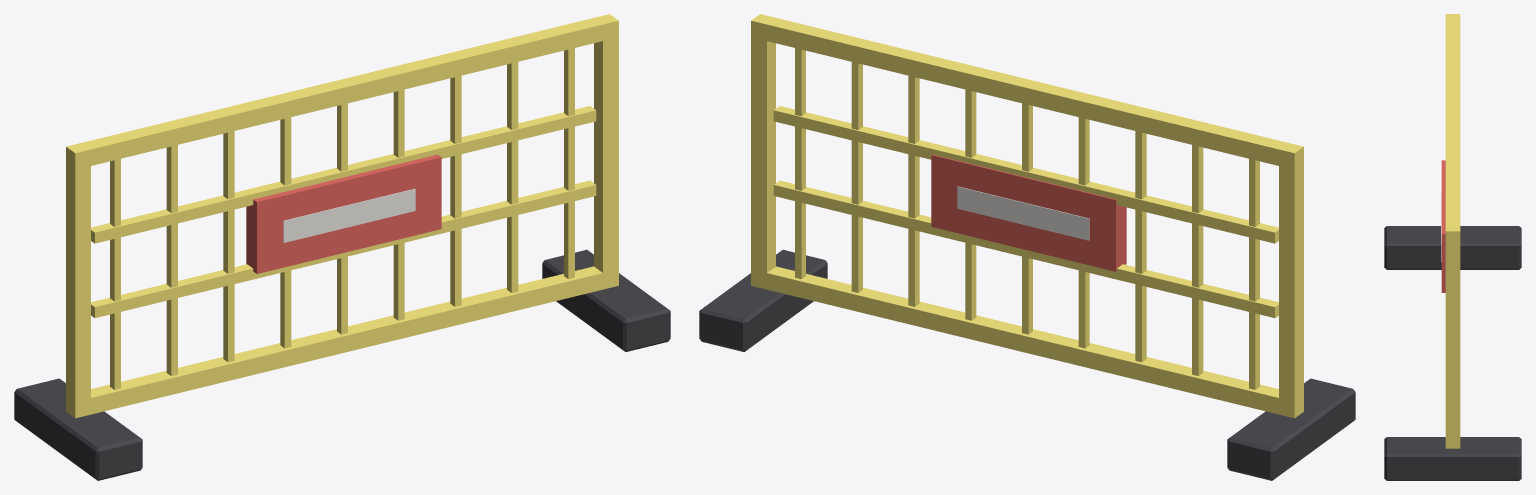
The model's file is prop_work_fence_01.glb.
The picture shows the model from 3 angles, left to right: view 1: azimuth 30°, elevation 25°; view 2: azimuth 150°, elevation 25°; view 3: azimuth 270°, elevation 25°; orthographic projection. The views are drawn at different scales.
Visible parts, largest first — view 1: prop_work_fence_01_body; view 2: prop_work_fence_01_body; view 3: prop_work_fence_01_body.
Boxes of the visible parts, box(x1,y1,x2,y2) form: prop_work_fence_01_body: box(14, 14, 670, 480); prop_work_fence_01_body: box(699, 14, 1355, 480); prop_work_fence_01_body: box(1384, 14, 1521, 480).
Bounding box in the file's own units: 2.18 × 1.08 × 0.55.
